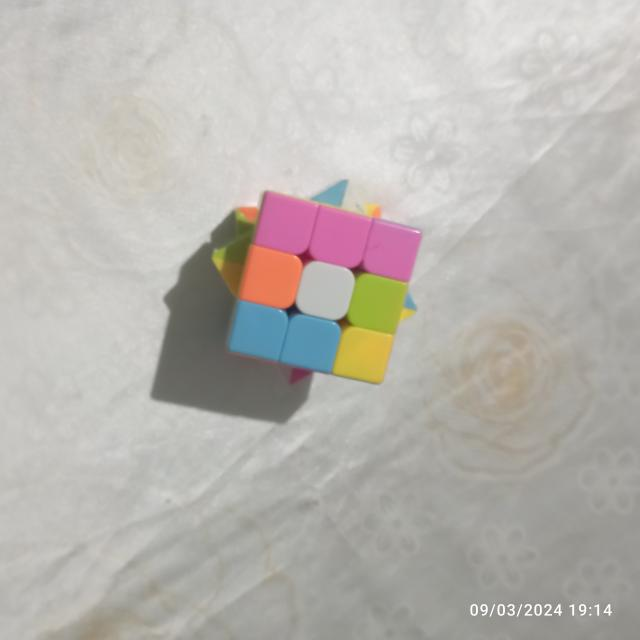Rub: (208, 174, 424, 392)
